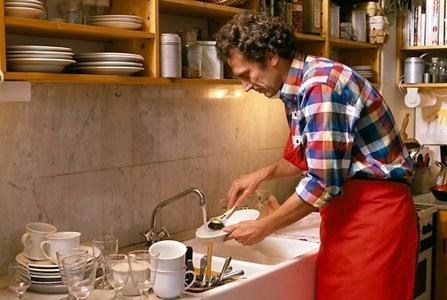person: (215, 13, 419, 300)
